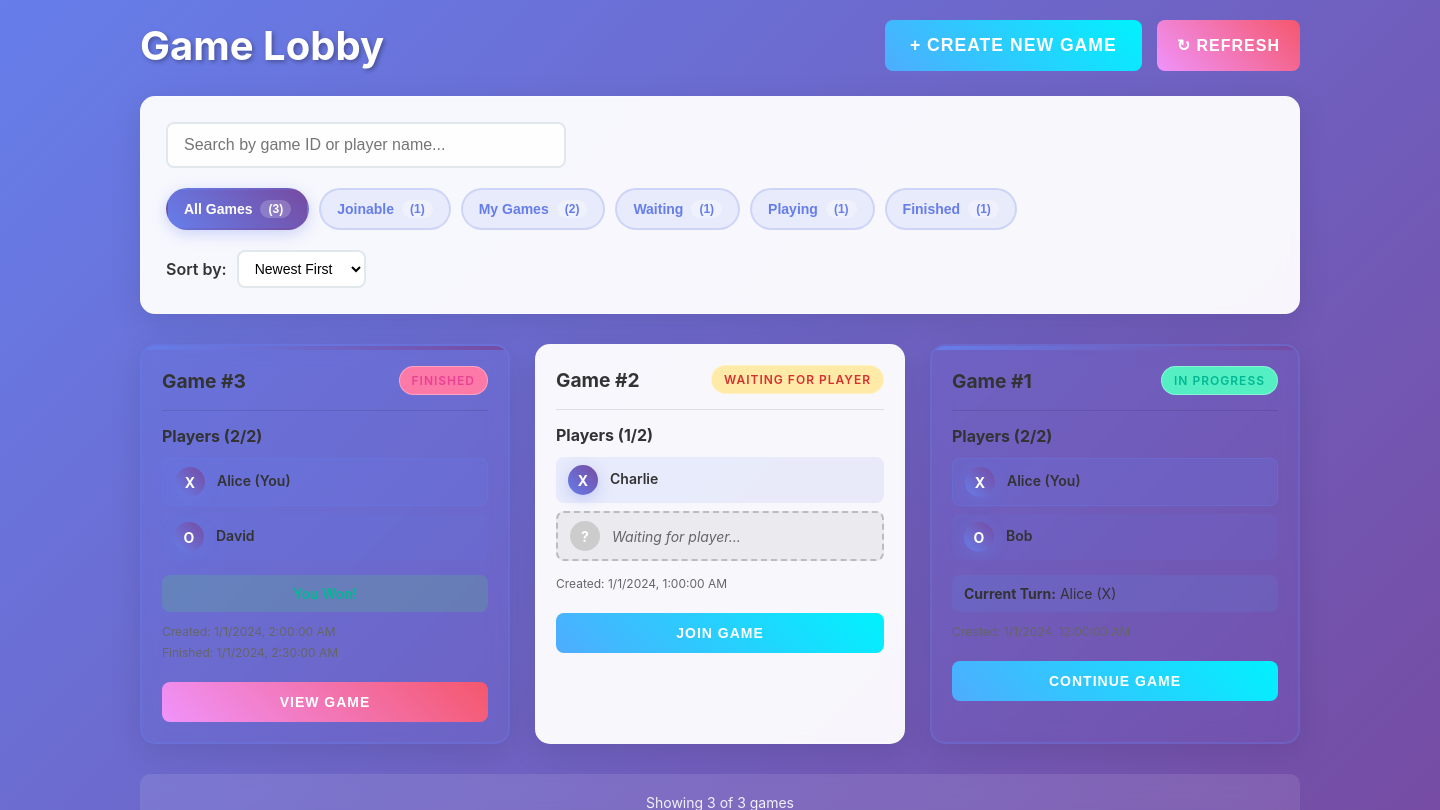
Test: GameList Filtering › filters by my games
Step 1. Click the button "My Games (2)" → x=533, y=209, box [461,188,605,230]
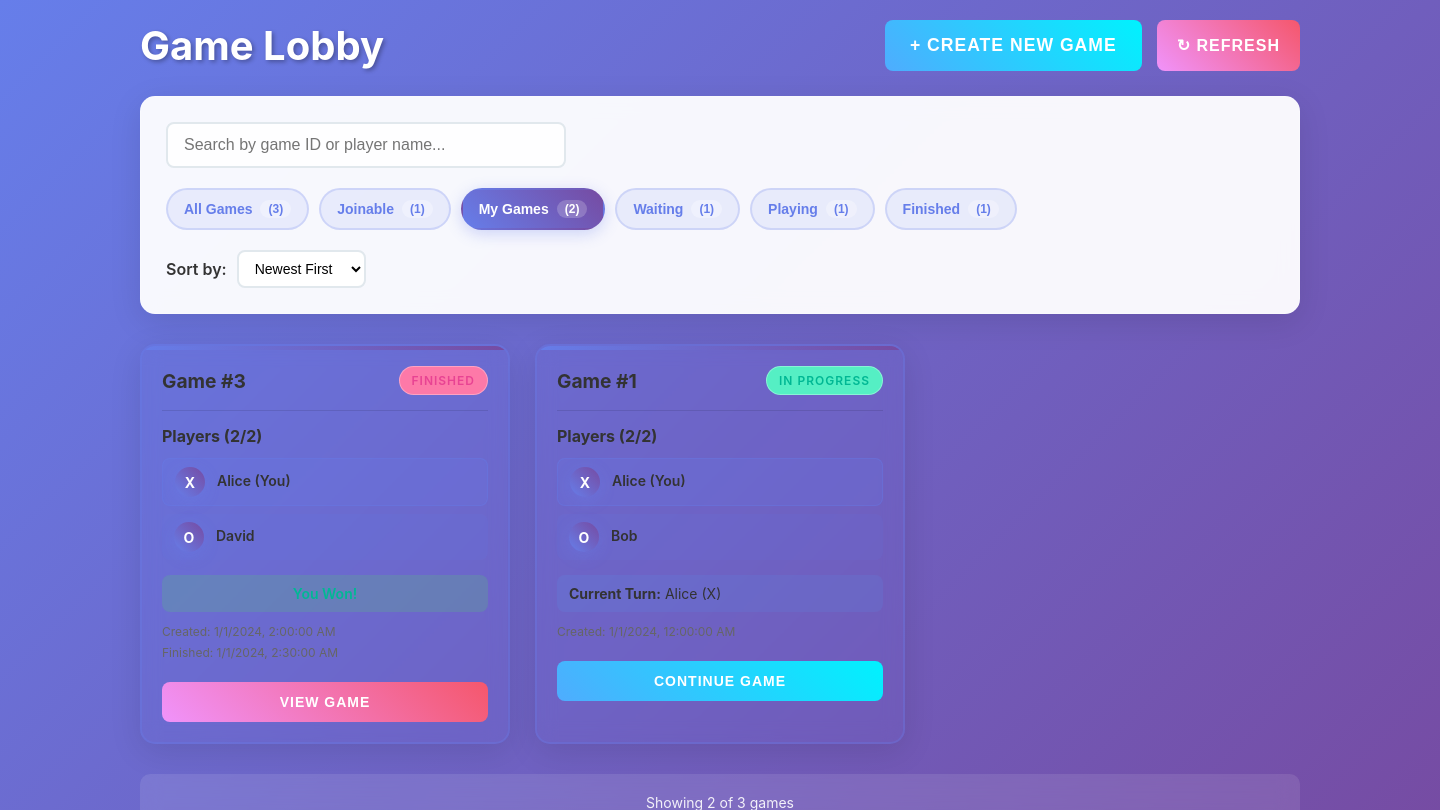
expect the text "Game #1" is shown: met, box [557,368,637,392]
expect the text "Game #2" is gone: met
